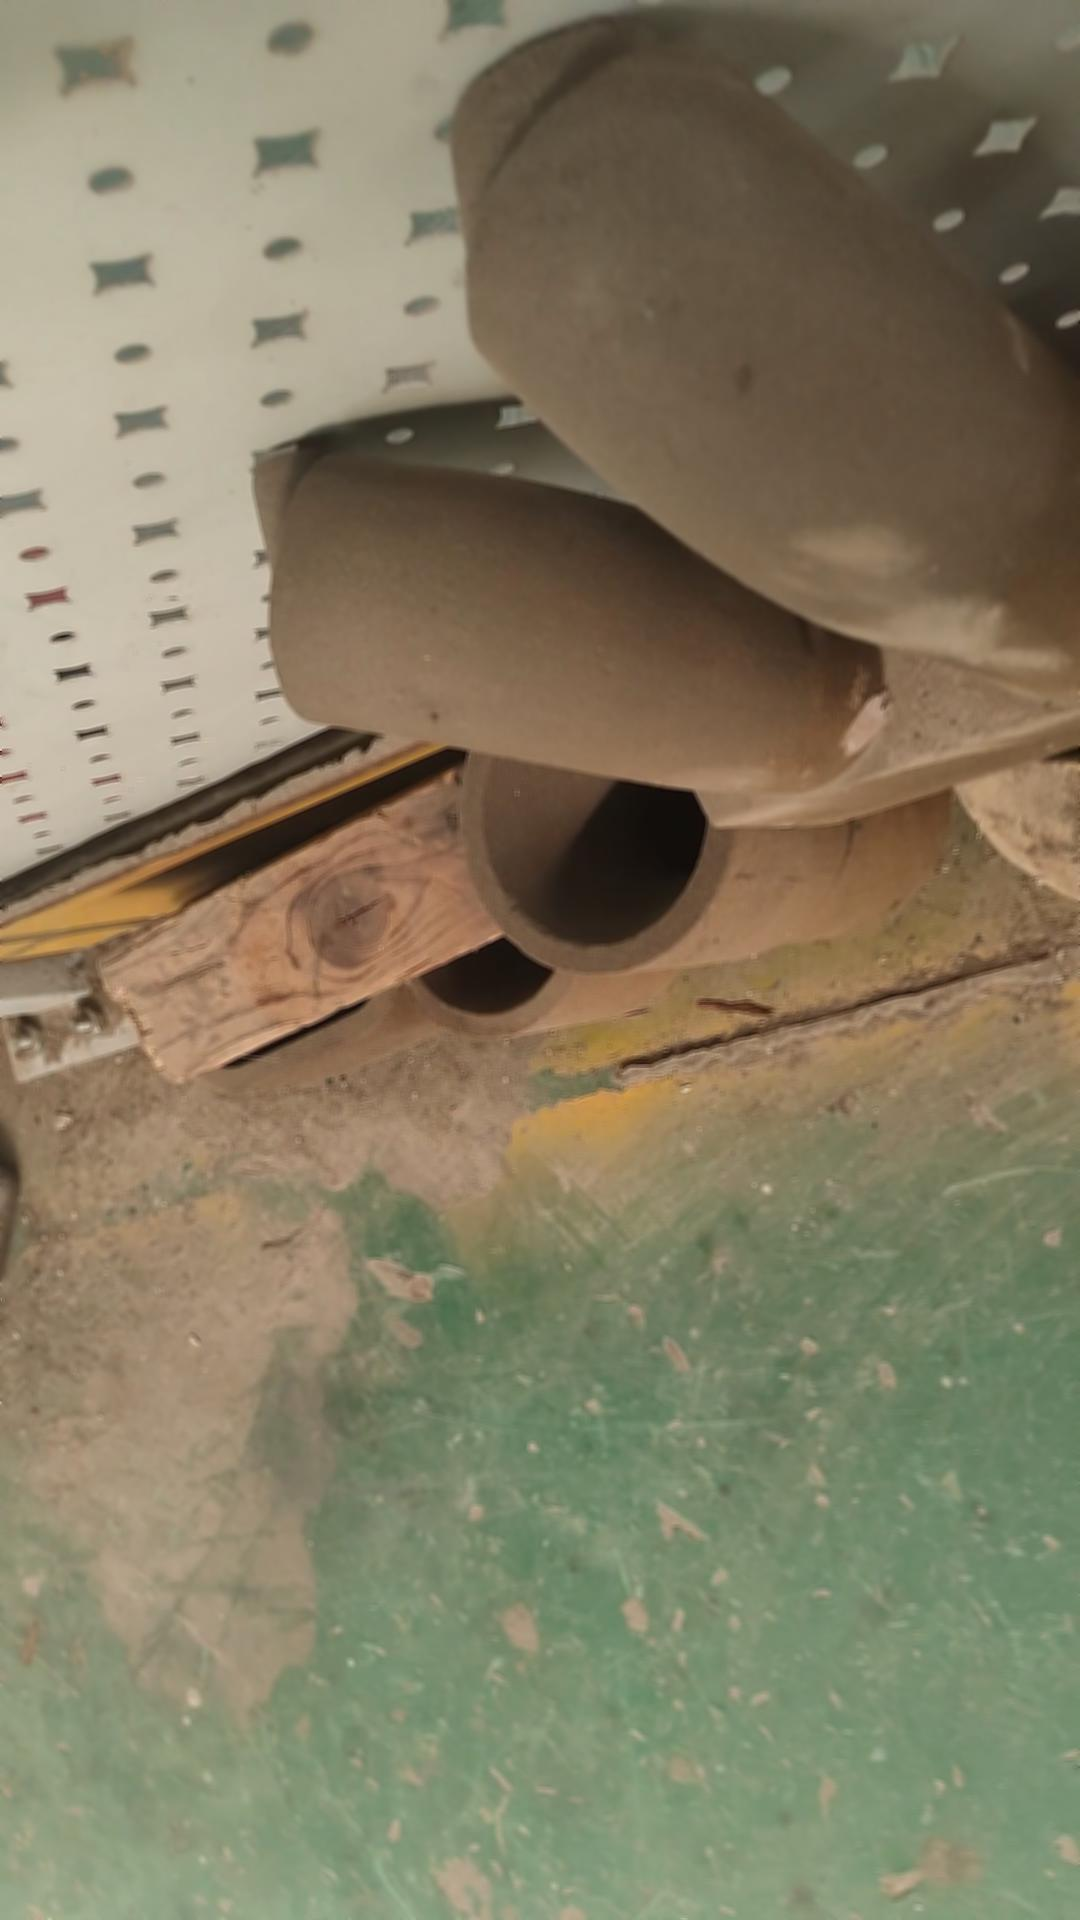pouring hole: (481, 720, 708, 945), (396, 831, 558, 1015)
